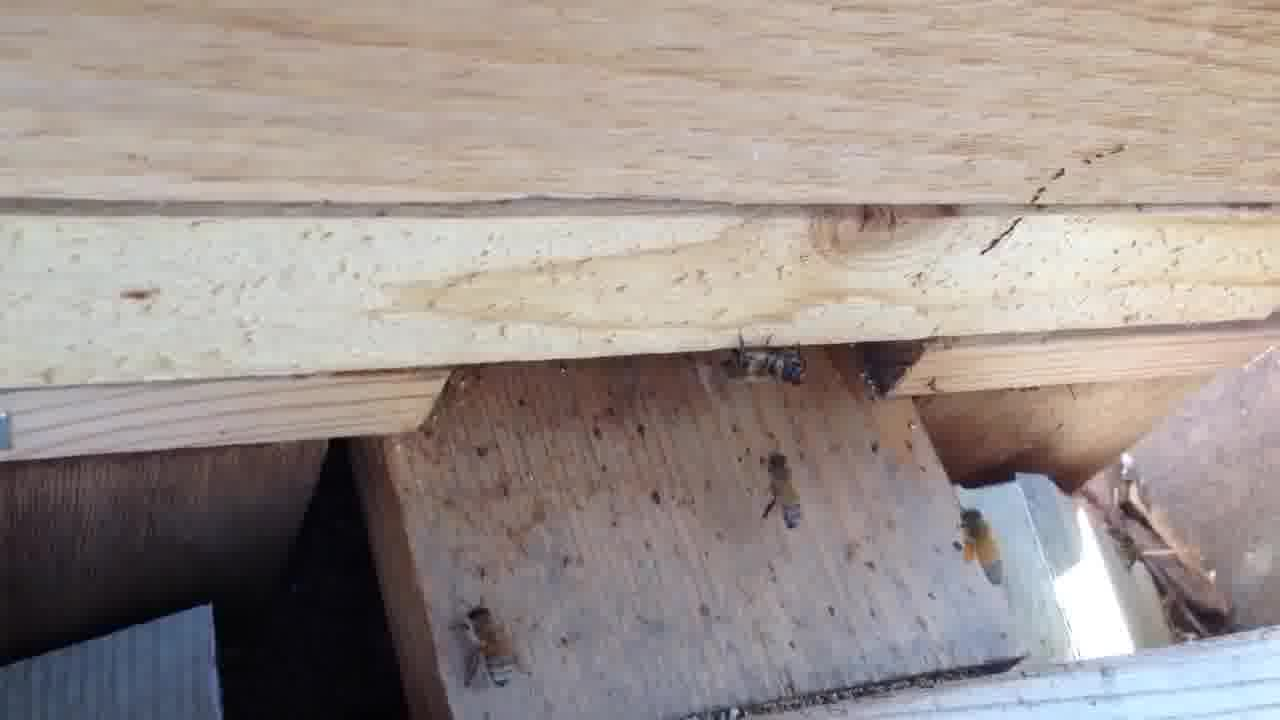pollen: (943, 499, 1014, 587)
